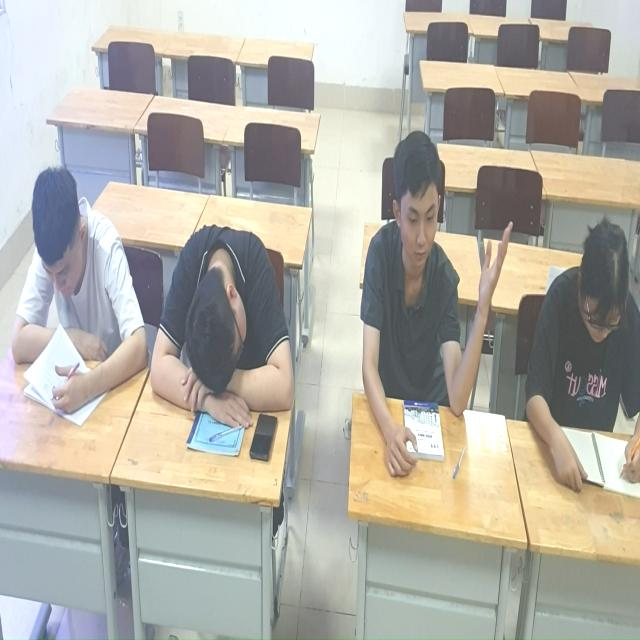raise_hand: (351, 122, 509, 472)
read: (9, 155, 145, 422), (527, 215, 640, 499)
sleep: (148, 223, 299, 446)
